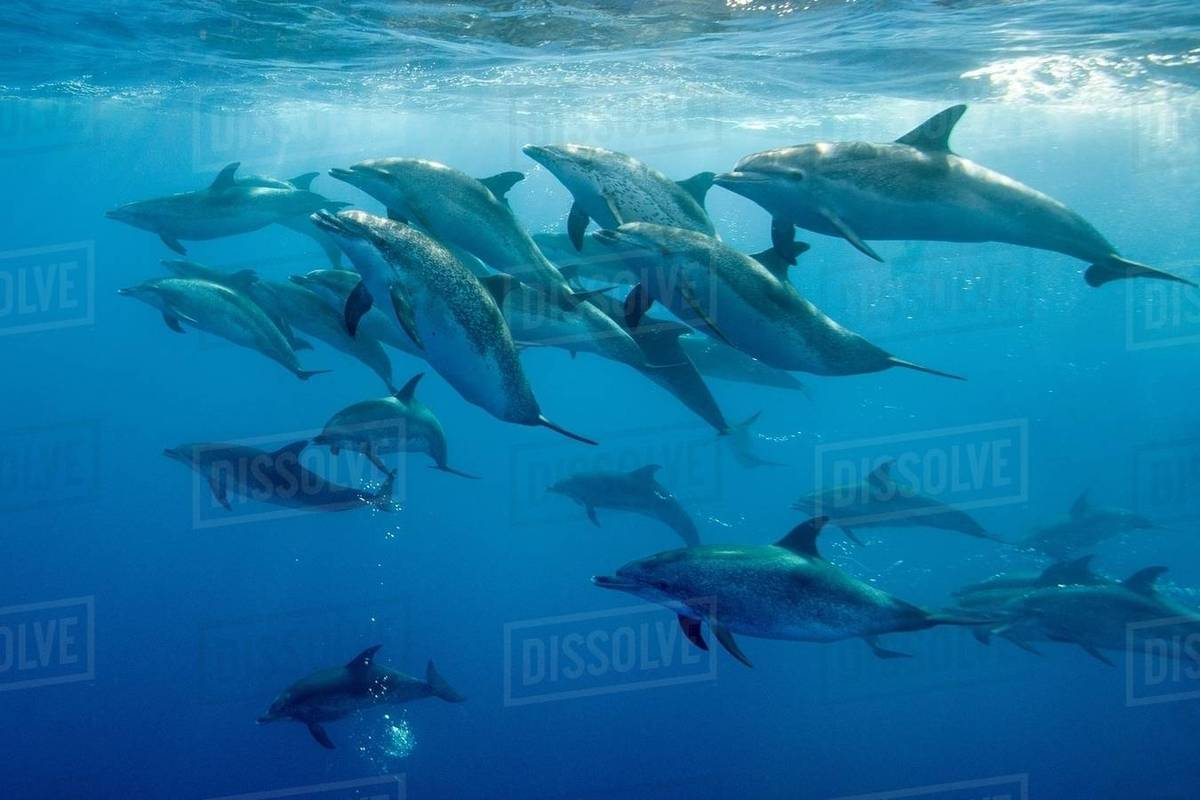dolphin: (714, 98, 1183, 307), (542, 206, 954, 387), (563, 500, 981, 673), (290, 202, 584, 441), (146, 418, 397, 544), (82, 161, 356, 262), (238, 638, 472, 751), (310, 376, 500, 486)
